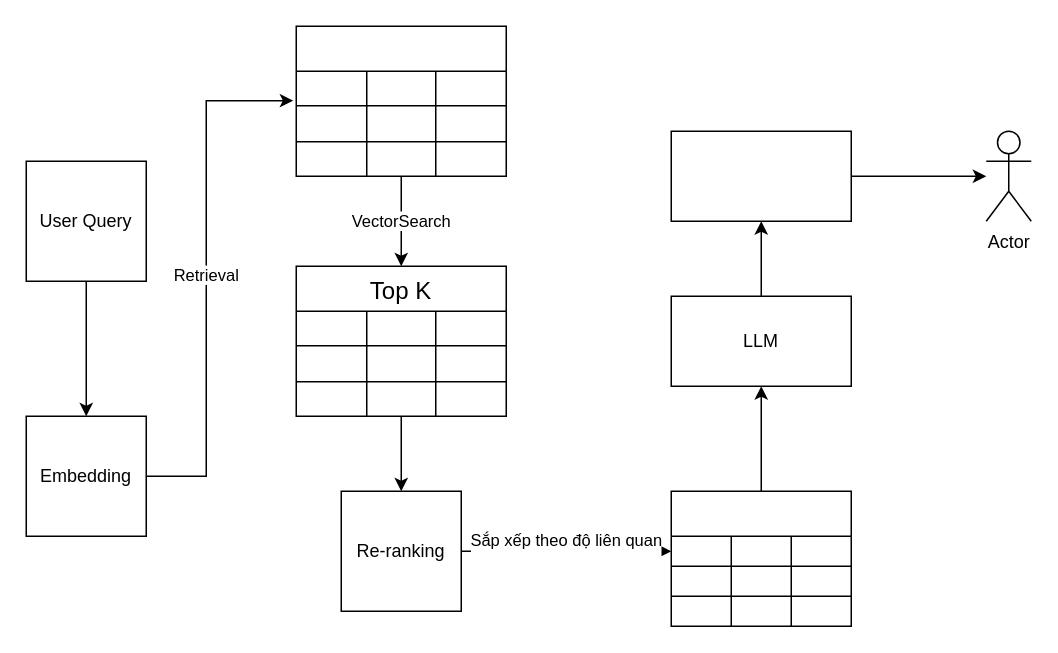
This 1058x653 diagram has some shape labels left out. Each missing label, with the centre of its shape:
"Answer" belongs at pixel 760 175.
"Sorted top K" belongs at pixel 760 558.
"VectorDB" belongs at pixel 400 100.
